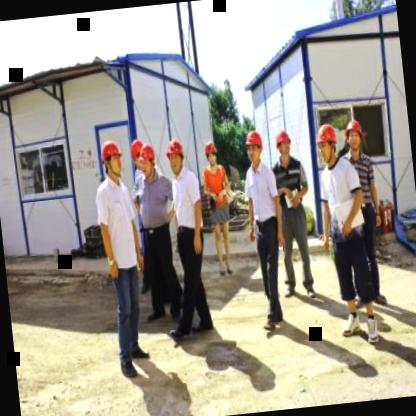helmet: (314, 118, 342, 168), (98, 135, 126, 182), (242, 124, 266, 167), (164, 132, 188, 174), (341, 116, 365, 156), (136, 140, 158, 180), (273, 125, 295, 161), (202, 137, 219, 169), (128, 137, 144, 171)
